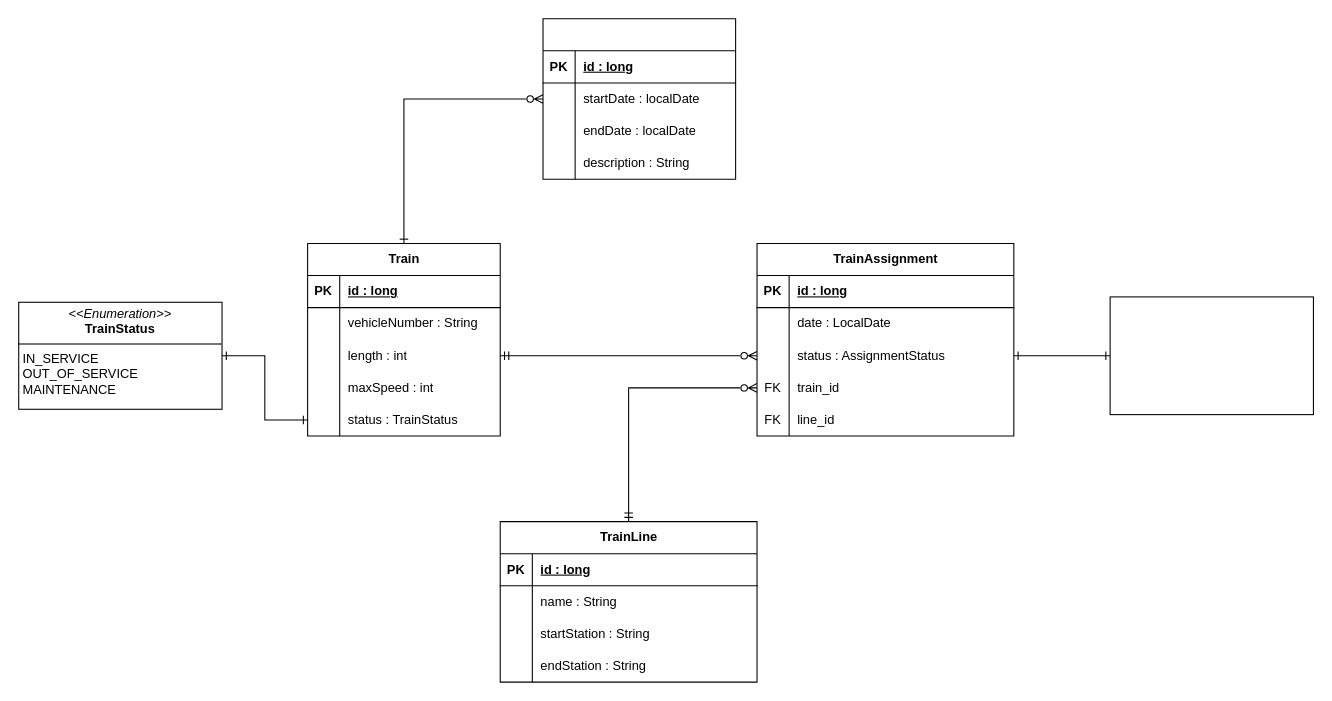
The diagram is 1332 pixels wide and 701 high, and some of its shapes have lost their labels. Here are the shapes that lost their labels. From the top down, the box of each, then its label:
(542, 18, 736, 179): TrainMaintenance
(1109, 296, 1313, 415): <<Enumeration>> AssignmentStatus PLANNED ACTIVE COMPLETED CANCELLED
